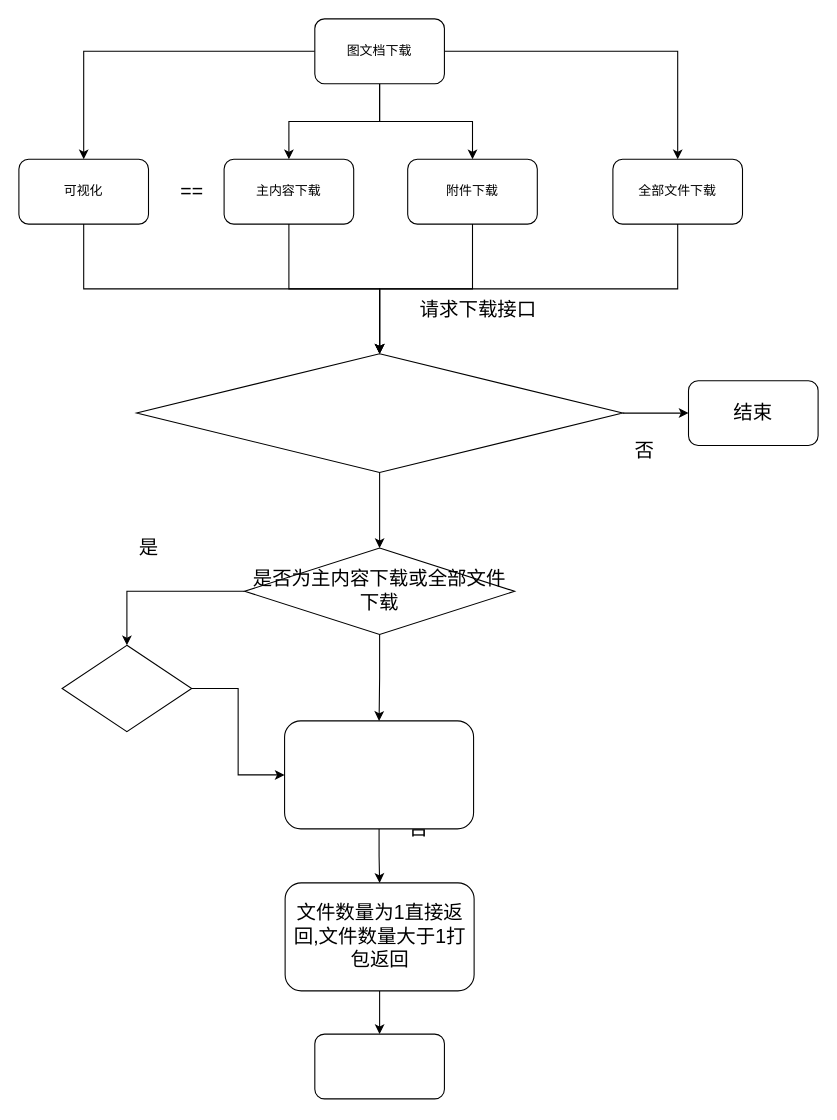
Image size: 837x1120. Some labels were removed from this diagram. Each missing label, with the centre of its shape:
"主文档保留,留记录,其余文件删除" goes at [379,1066].
"校验主内容文件是否下载过" goes at [126,688].
"调用下载图文档方法下载未下载文档" goes at [379,774].
"通过图文档id来查询是否有文档权限" goes at [379,413].
